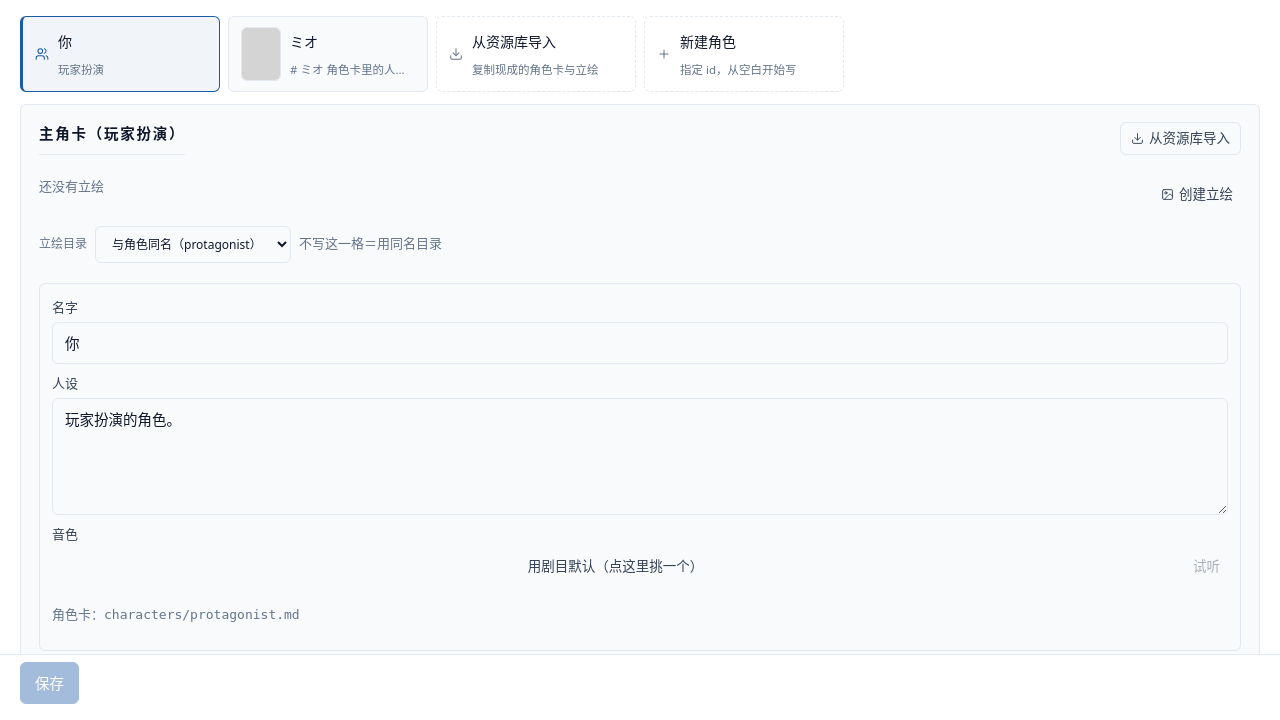
Scenario: 角色页：立绘的那一眼 › 差分条把该角色的立绘全摆出来（名字就是剧本里写的 variant），有图时按钮叫「管理立绘」
Click the text "ミオ".
click(304, 41)  # box [290,32,318,51]
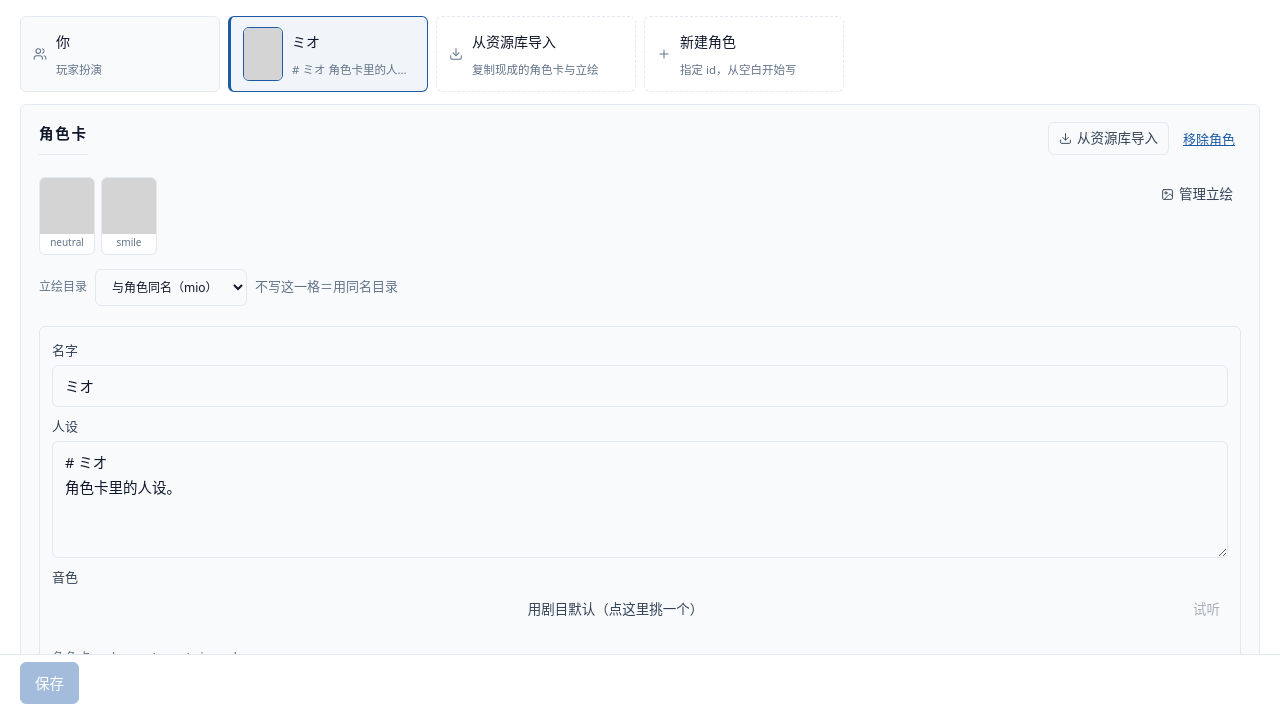
Expected: the button "管理立绘" is shown, [1161,183,1233,206]
